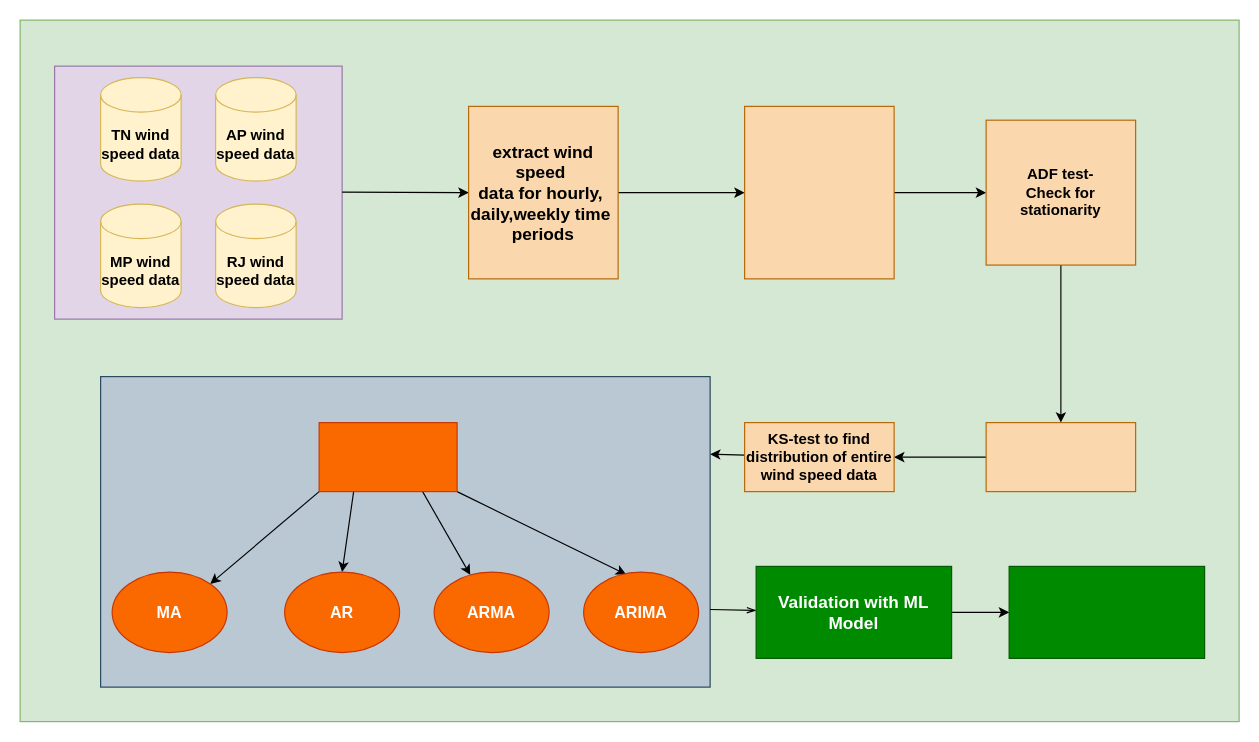
The diagram is 1259 pixels wide and 742 high, and some of its shapes have lost their labels. Each missing label, with the centre of its shape:
"decompose time series using multiplicative model" belongs at point 1060,456.
"Forecast wind speeds" belongs at point 387,456.
"Statistical Quality Control" belongs at point 1106,611.
"Visualization of data for all states - violin plots,box plots,line plots" belongs at point 818,192.
